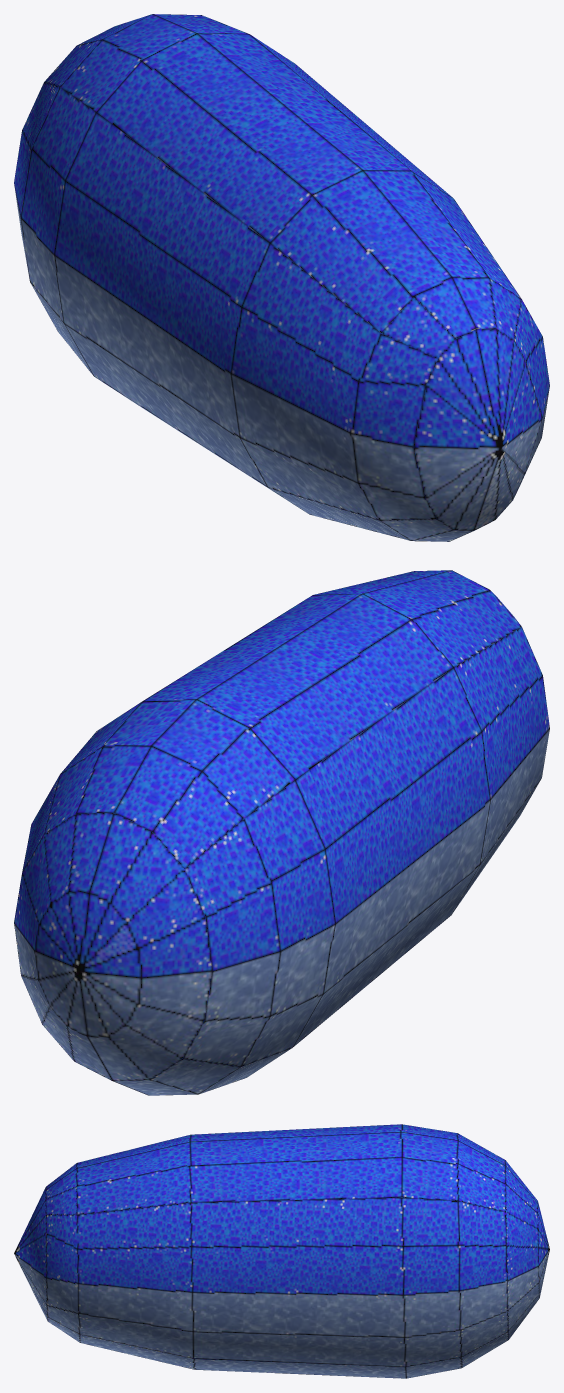
File: fish.obj
The picture shows the model from 3 angles, top to bottom: view 1: azimuth 30°, elevation 25°; view 2: azimuth 150°, elevation 25°; view 3: azimuth 270°, elevation 25°; orthographic projection. The views are drawn at different scales.
Visible parts, largest first — view 1: sphere7; view 2: sphere7; view 3: sphere7.
Boxes of the visible parts, <box> form: sphere7: <box>14,14,549,541</box>; sphere7: <box>14,570,549,1095</box>; sphere7: <box>14,1124,549,1378</box>.
Size of the model in its own units: 1.41 by 1.81 by 3.67.
